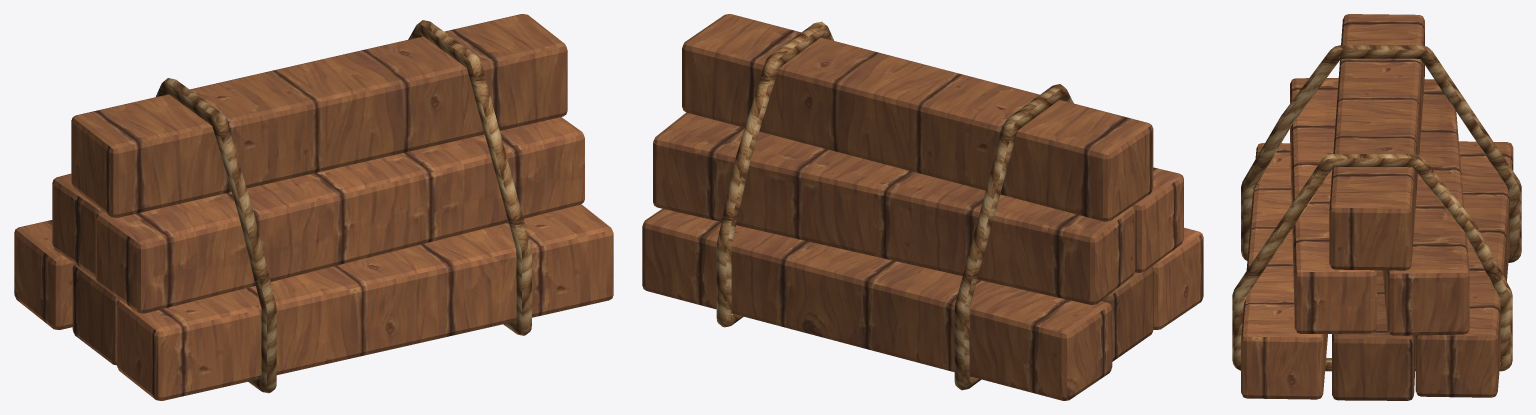
Rendered from timber_stack.glb.
The picture shows the model from 3 angles, left to right: view 1: azimuth 30°, elevation 25°; view 2: azimuth 150°, elevation 25°; view 3: azimuth 270°, elevation 25°; orthographic projection. The views are drawn at different scales.
Visible parts, largest first — view 1: model; view 2: model; view 3: model.
Part boxes in pixels (left/top/right/bottom): model: left=14, top=14, right=613, bottom=400; model: left=642, top=14, right=1203, bottom=400; model: left=1232, top=14, right=1521, bottom=400.
Bounding box in the file's own units: 0.919 × 0.466 × 0.563.
5 materials, 5 textured.
